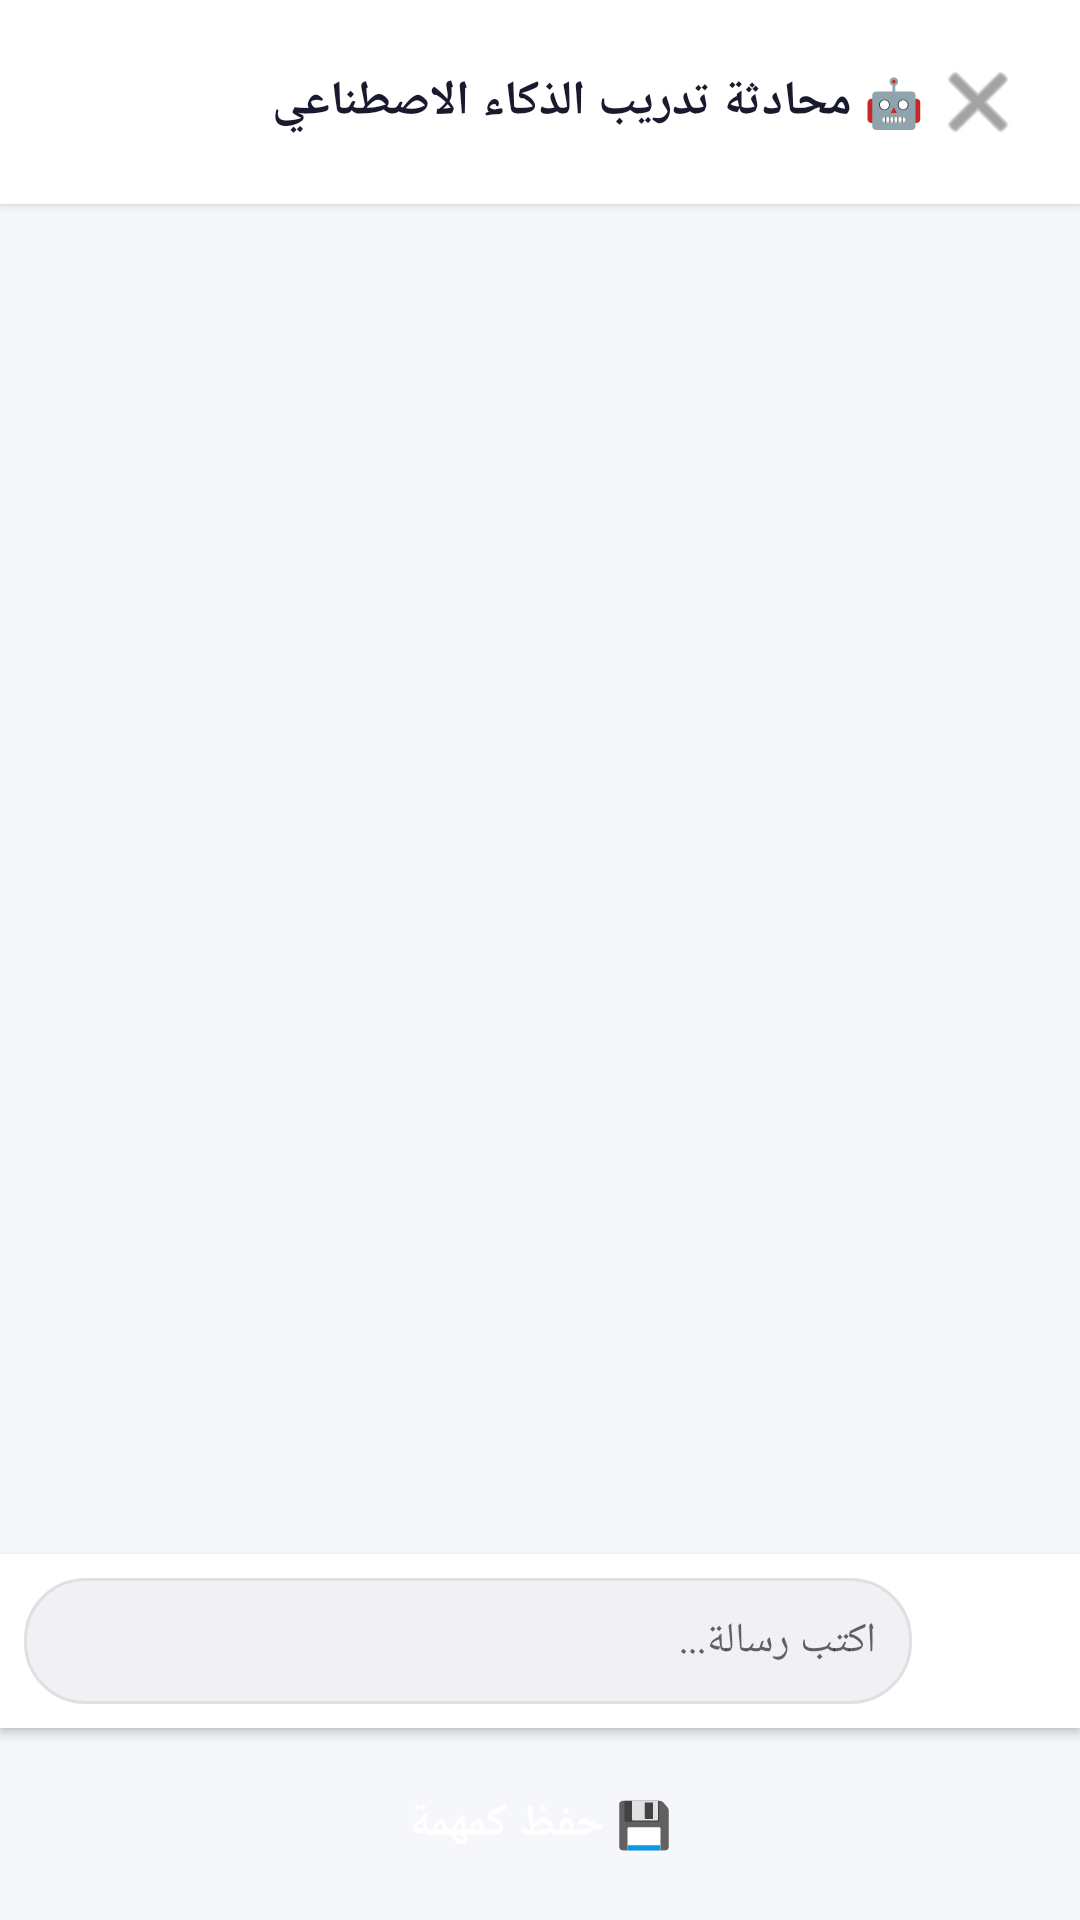

Point at icon controls on the screen. Image size 1080 × 1920, points as point (x, y).
إغلاق: point (978, 102)
